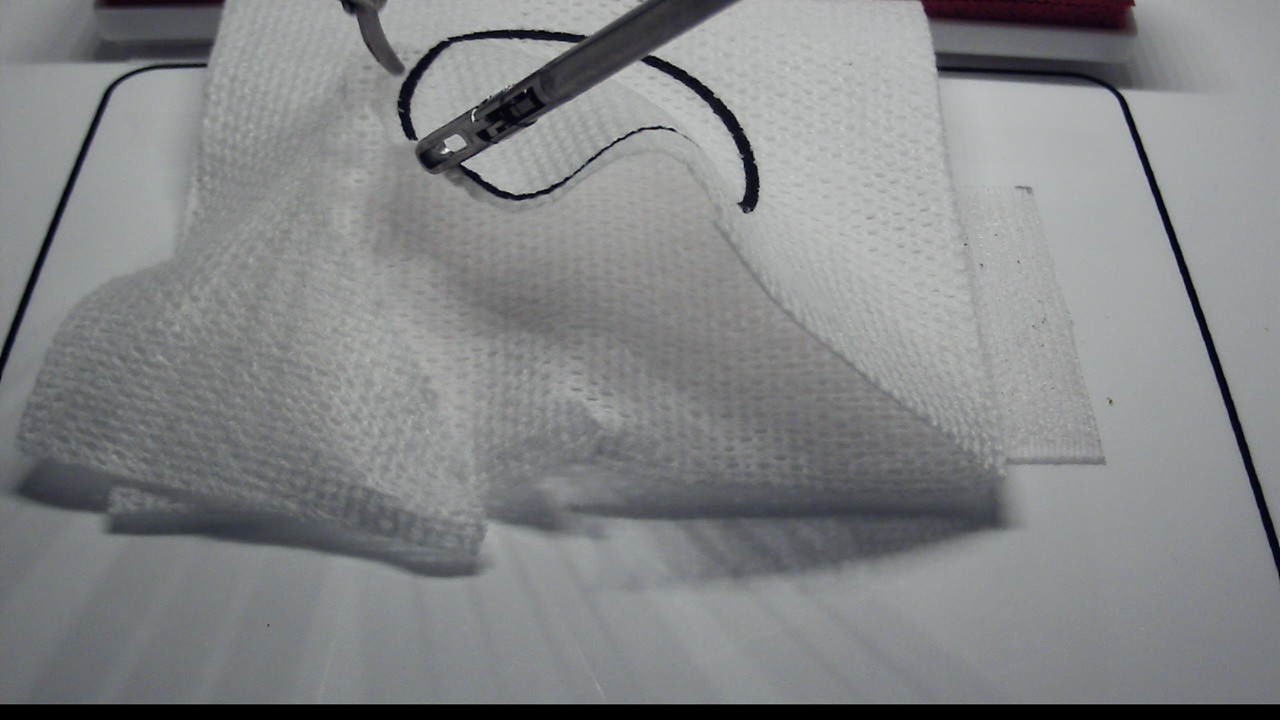Circle: (398, 33, 762, 217)
Grasper: (412, 100, 497, 173)
Scissor: (353, 1, 408, 79)
